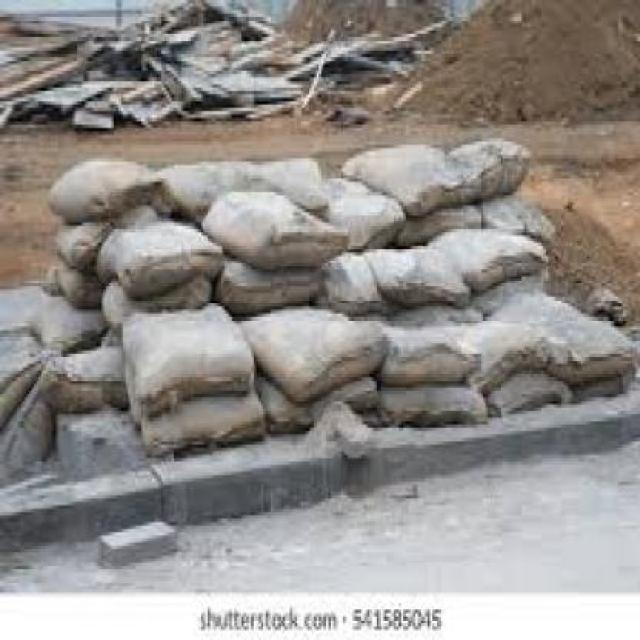gunny_bag: (122, 304, 255, 423), (492, 283, 635, 390), (244, 303, 386, 403), (200, 188, 351, 270), (161, 158, 333, 216), (117, 224, 223, 308), (54, 201, 182, 269), (432, 316, 544, 391), (434, 227, 549, 297), (255, 371, 378, 433), (142, 397, 267, 457), (216, 255, 323, 321), (342, 146, 446, 211), (37, 339, 128, 413), (48, 159, 160, 218), (56, 400, 141, 475), (447, 139, 537, 207), (326, 178, 405, 253), (363, 250, 468, 305), (382, 322, 473, 385), (376, 381, 492, 428), (366, 202, 484, 245), (0, 400, 55, 488), (23, 297, 113, 350), (0, 334, 44, 437), (469, 262, 548, 313), (327, 248, 387, 315), (484, 366, 567, 412), (369, 302, 484, 329), (482, 197, 550, 235), (57, 263, 108, 311), (567, 366, 636, 399), (104, 280, 136, 337), (101, 237, 122, 282)
